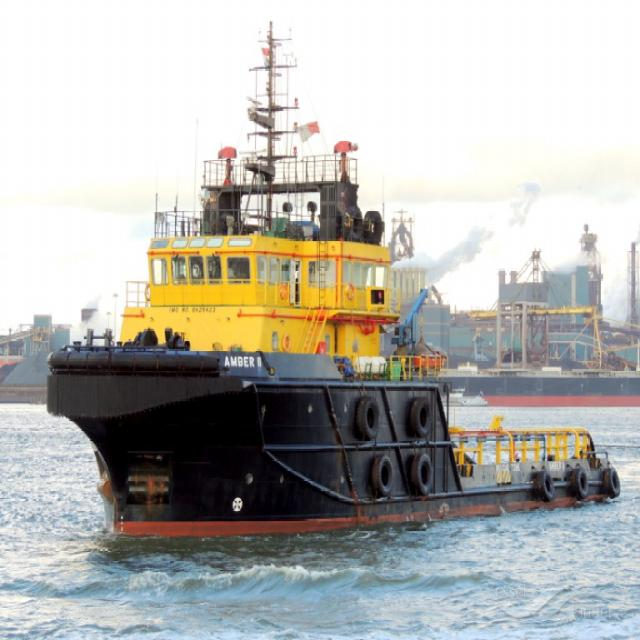OCR: (220, 351, 264, 379)
